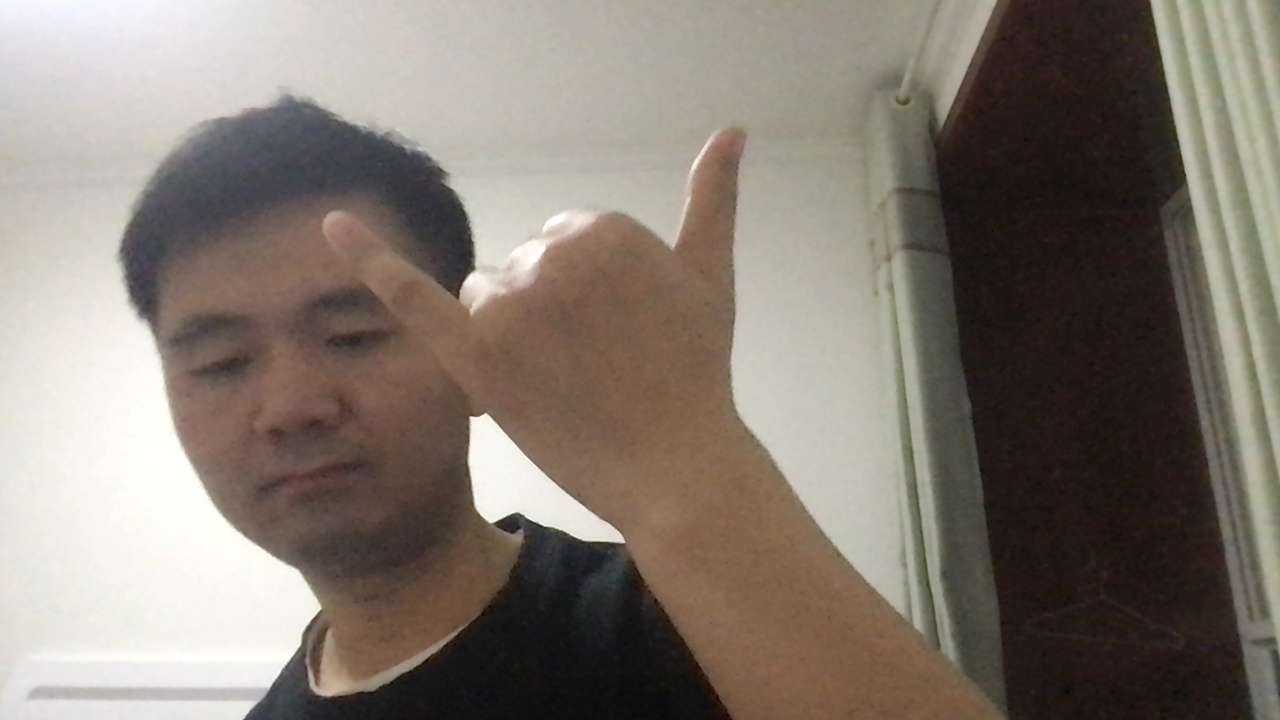iloveyou: (321, 153, 825, 475)
